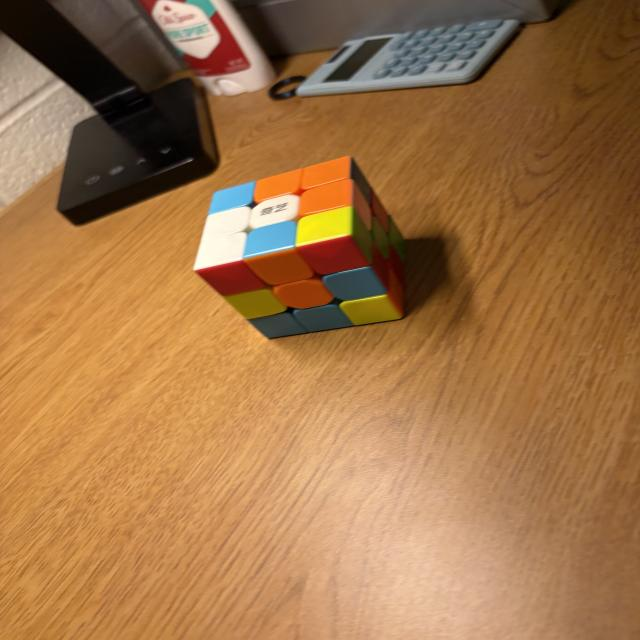Rubiks Cube: (197, 159, 409, 341)
